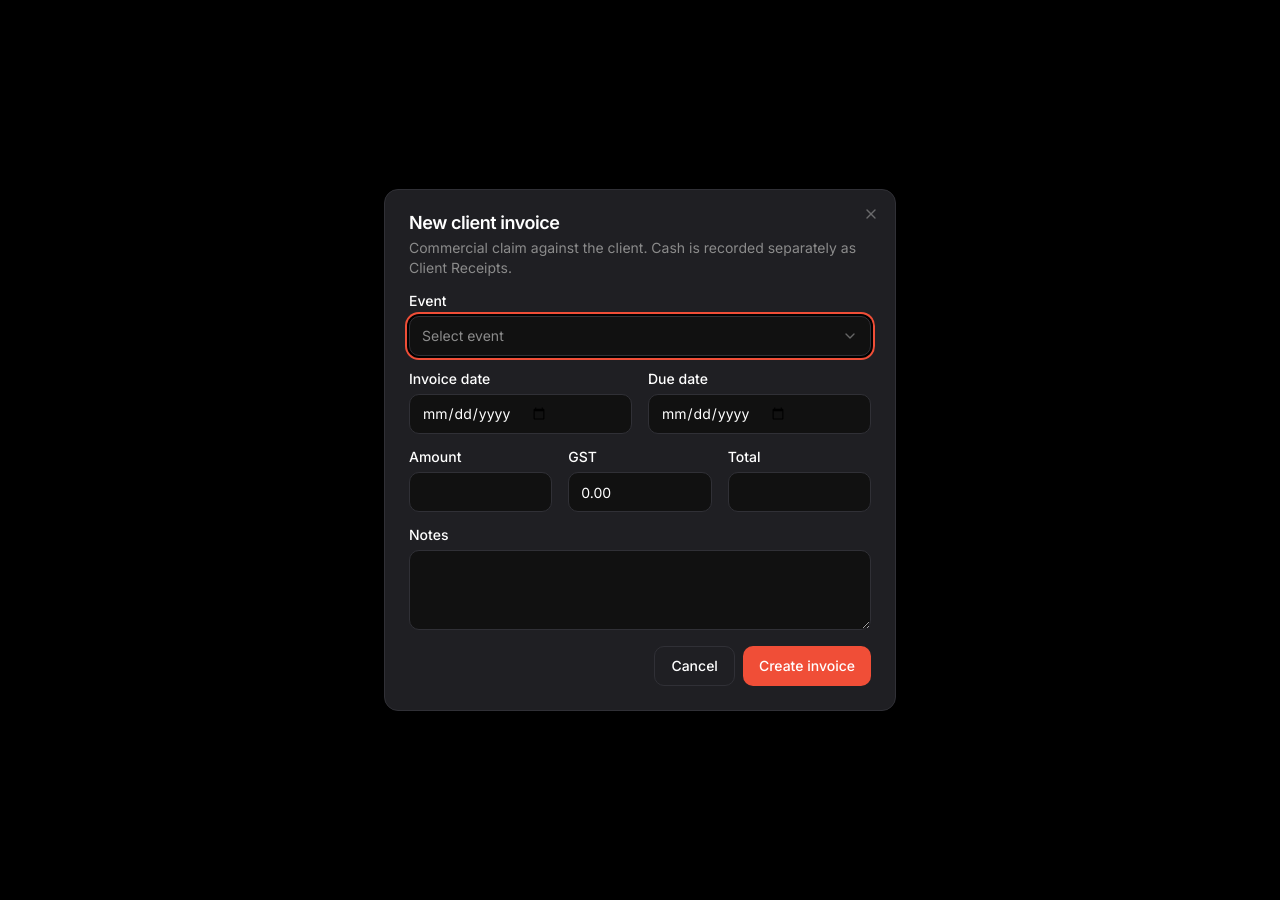
it: client invoices feature › shows validation when event is missing
The image size is (1280, 900).
Click the button "Create invoice". click: (807, 666)
box: [743,646,871,686]
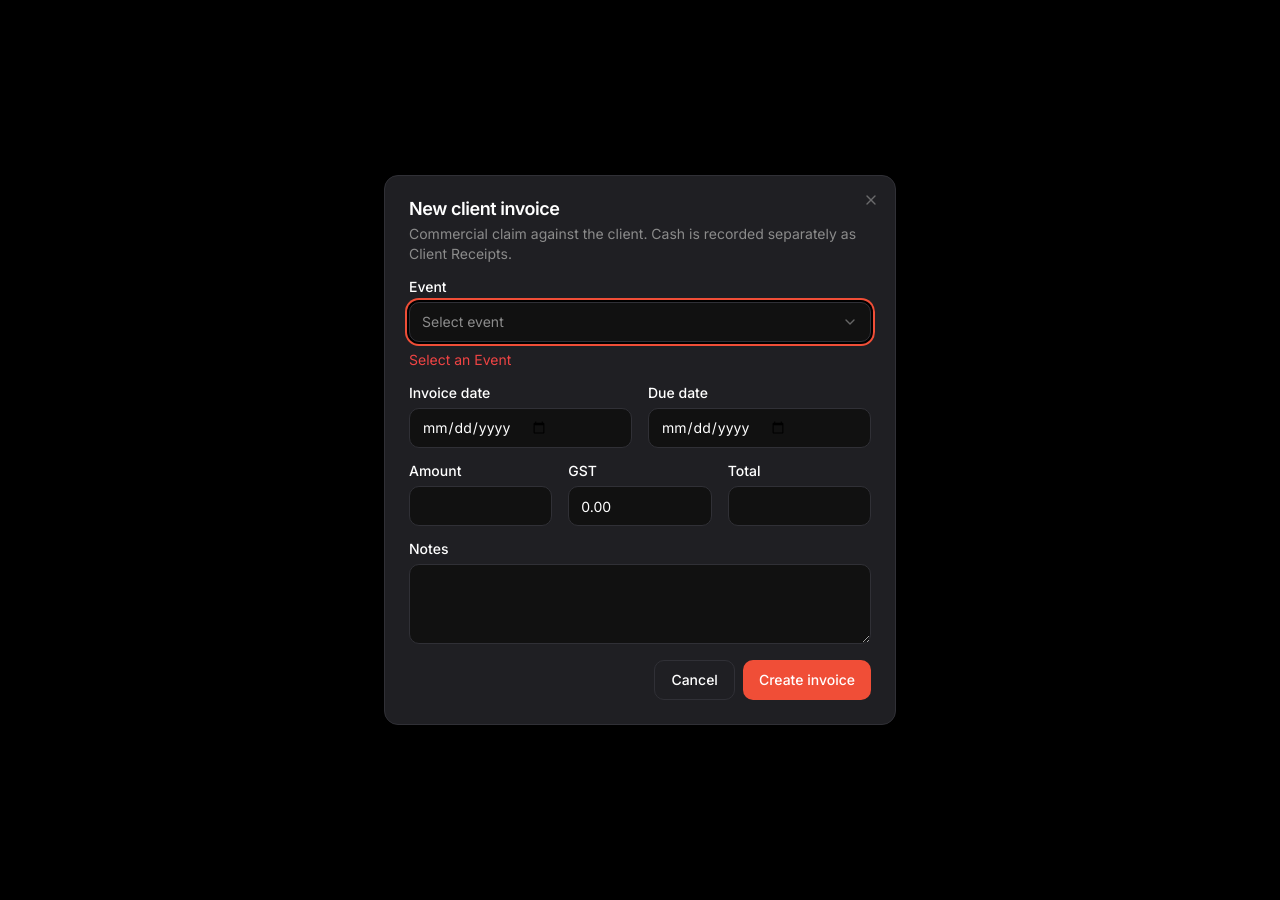
Check: the text "Select an Event" is shown, box [409,351,511,368]
